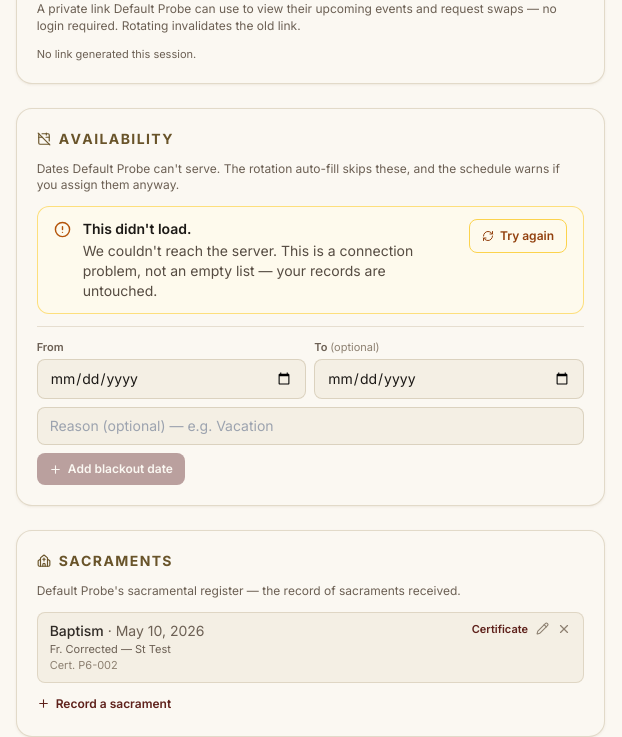
correcting a register entry (REG.1) › Save is refused until a reason is given
The width and height of the screenshot is (622, 737).
(page scrolled)
Expected: the text "Cert. P6-002" is shown, [50,658,118,672]
Click the button named "edit baptism record" at (542,629), box [532,618,553,639]
(page scrolled)
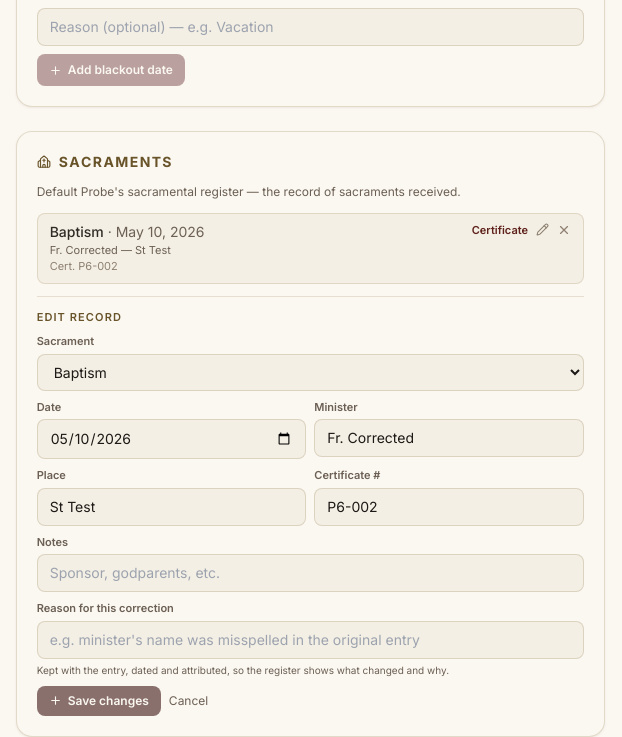
Expected: the button "Save changes" is disabled, [37,686,161,716]
Type "ok" into the field with placeholder "e.g. minister's name was misspelled in the original entry" at (310,640), box [37,621,584,659]
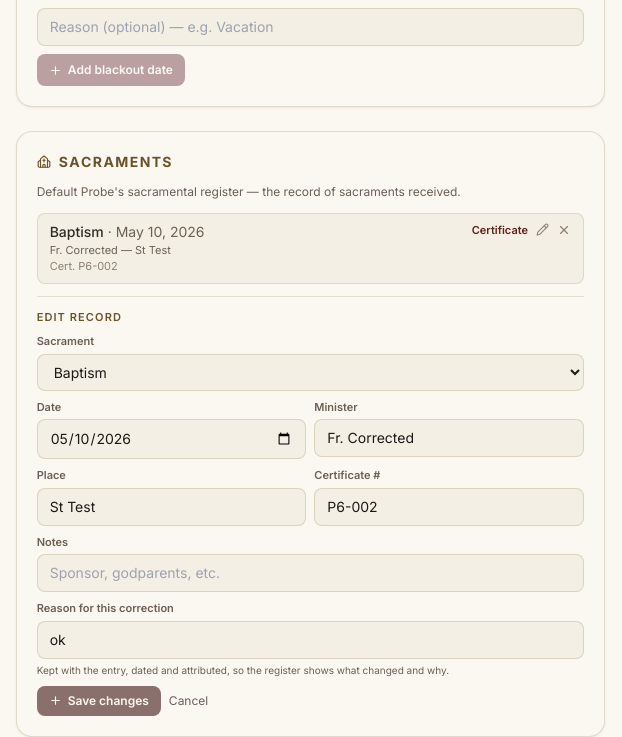
Expected: the button "Save changes" is disabled, [37,686,161,716]
Replace the text in the field with placeholder "e.g. minister's name was misspelled in the original entry" with "name was misspelled" at (310,640), box [37,621,584,659]
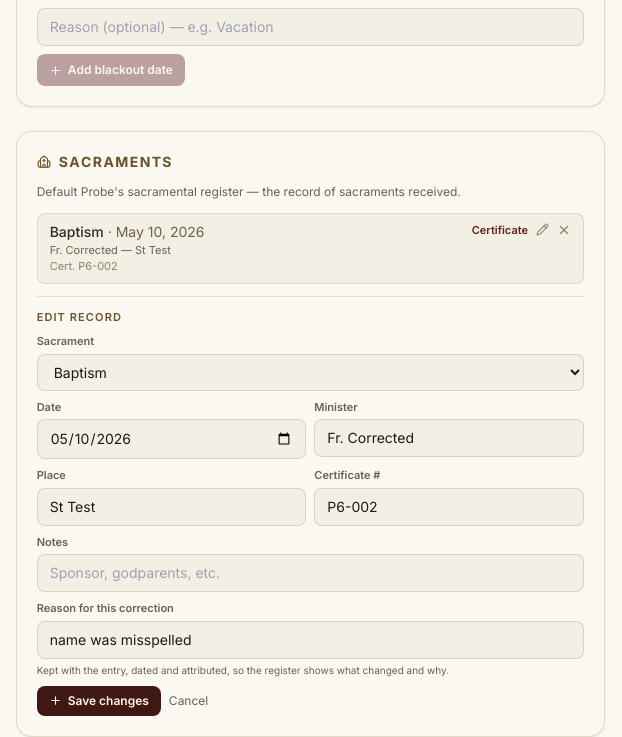
Expected: the button "Save changes" is enabled, [37,686,161,716]
